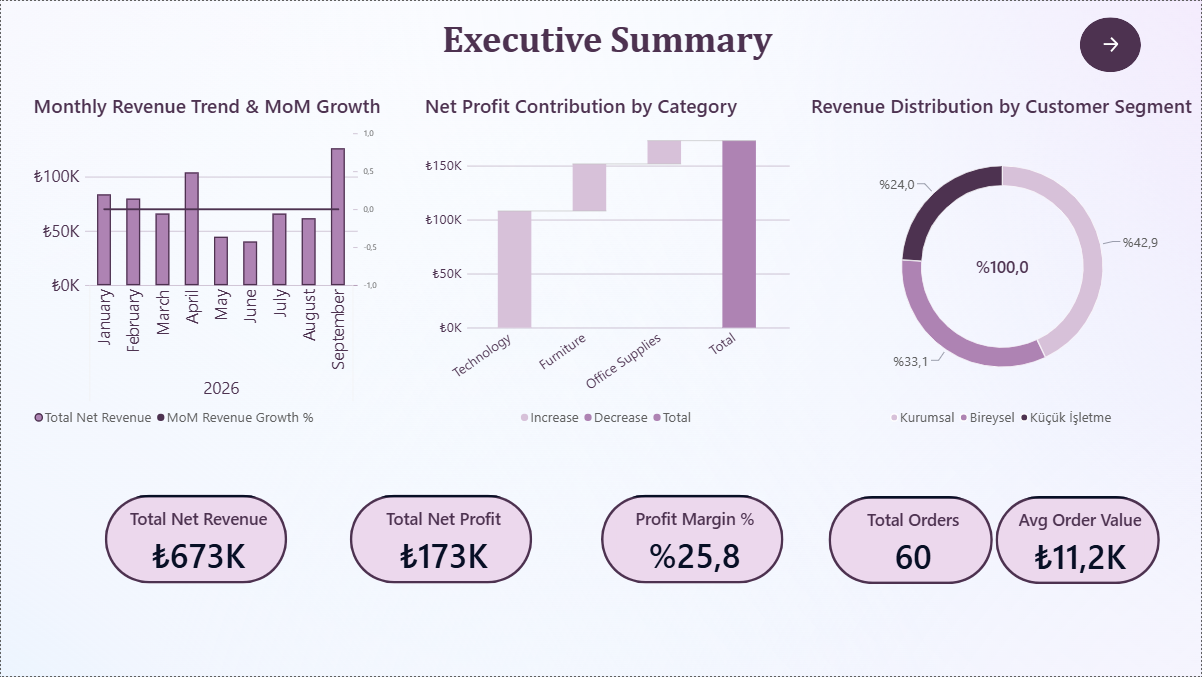

The page's visual inventory and layout, read from the dashboard file:
{"tool":"powerbi","page":{"name":"Executive Summary","canvas":[1920,1080],"ordinal":0},"visuals":[{"type":"cardVisual","fields":{"Data":["_KeyMeasures.Total Net Revenue"]},"box":[166.9,790.6,292,142],"z":0},{"type":"cardVisual","fields":{"Data":["_KeyMeasures.Total Net Profit"]},"box":[557.6,790.6,292,142],"z":1000},{"type":"cardVisual","fields":{"Data":["_KeyMeasures.Profit Margin %"]},"box":[959.3,790.6,292,142],"z":2000},{"type":"cardVisual","fields":{"Data":["_KeyMeasures.Total Orders","_KeyMeasures.Avg Order Value"]},"box":[1324.3,792.4,530.1,141.2],"z":3000},{"type":"textbox","box":[675,25.7,588,88],"z":4000},{"type":"actionButton","box":[1726,26,98,88],"z":4001},{"type":"lineStackedColumnComboChart","title":"Monthly Revenue Trend & MoM Growth","fields":{"Category":["vw_SalesAnalytics.OrderDate.Variation.Date Hierarchy.Year","vw_SalesAnalytics.OrderDate.Variation.Date Hierarchy.Month"],"Y":["_KeyMeasures.Total Net Revenue"],"Y2":["_KeyMeasures.MoM Revenue Growth %"]},"box":[40,134,598,562],"z":4002},{"type":"donutChart","title":"Revenue Distribution by Customer Segment","fields":{"Category":["vw_SalesAnalytics.Segment"],"Y":["_KeyMeasures.Revenue Contribution %"]},"box":[1284,134,636,562],"z":4003},{"type":"waterfallChart","title":"Net Profit Contribution by Category","fields":{"Category":["vw_SalesAnalytics.Category"],"Y":["_KeyMeasures.Total Net Profit"]},"box":[666,134,608,562],"z":4004}]}

Visuals, with their boxes in screenshot pixels (x1, y1, x2, y2), scaled from the page's 1920x1080 canvas onto the 1202x677 screenshot:
cardVisual - _KeyMeasures.Total Net Revenue: 104,496,287,585
cardVisual - _KeyMeasures.Total Net Profit: 349,496,532,585
cardVisual - _KeyMeasures.Profit Margin %: 601,496,783,585
cardVisual - _KeyMeasures.Total Orders x _KeyMeasures.Avg Order Value: 829,497,1161,585
textbox: 423,16,791,71
actionButton: 1081,16,1142,71
"Monthly Revenue Trend & MoM Growth" lineStackedColumnComboChart: 25,84,399,436
"Revenue Distribution by Customer Segment" donutChart: 804,84,1201,436
"Net Profit Contribution by Category" waterfallChart: 417,84,798,436
